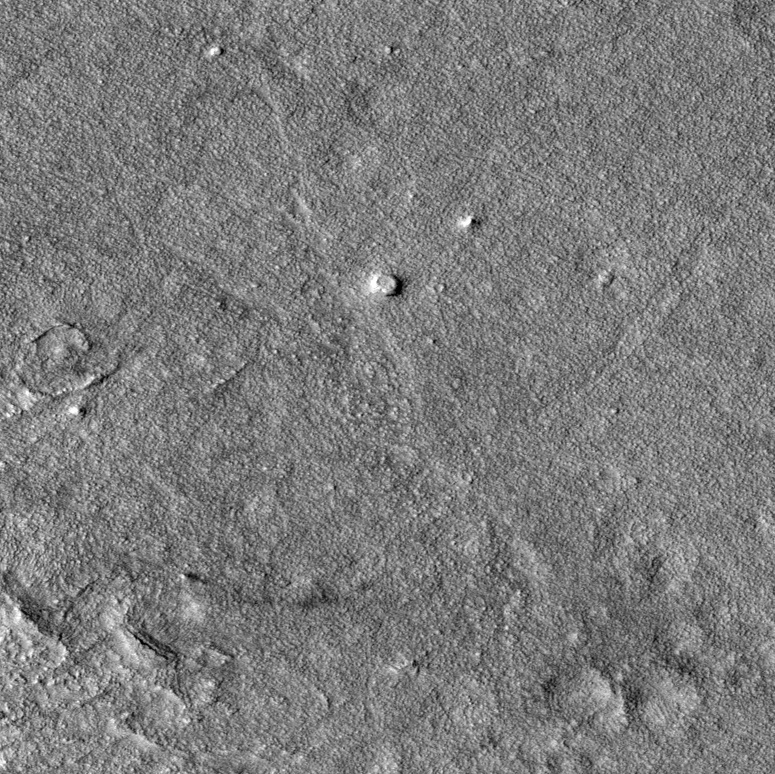dust_devil: (174, 567, 340, 625)
